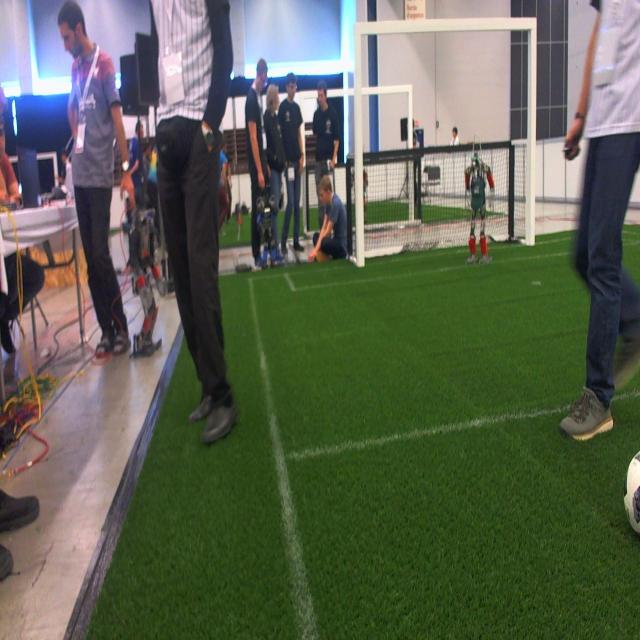goalpost: (353, 19, 364, 270), (525, 14, 536, 244)
